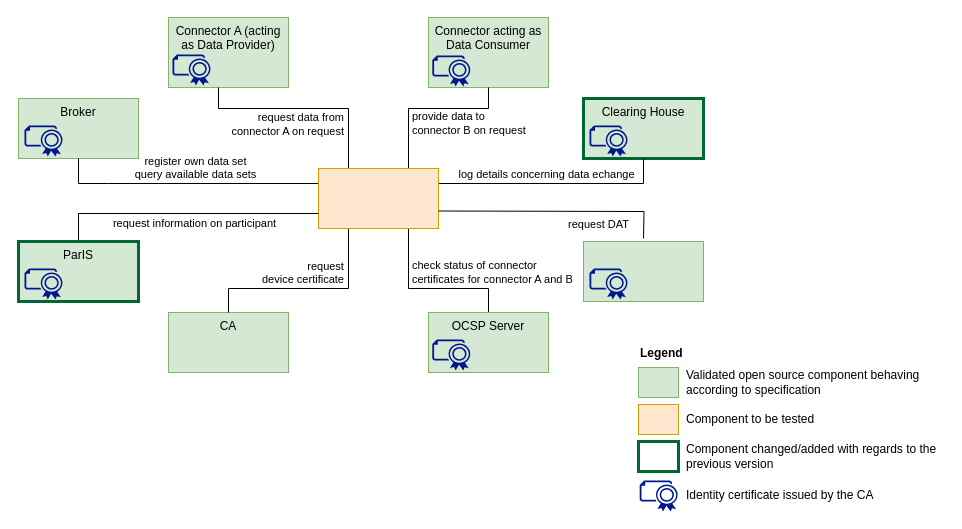
This 962x529 diagram has some shape labels left out. The box of each missing label's shape, as (x1, y1, x2, y2) in pixels:
Connector under test: (318, 168, 438, 228)
DAPS: (582, 240, 704, 302)
